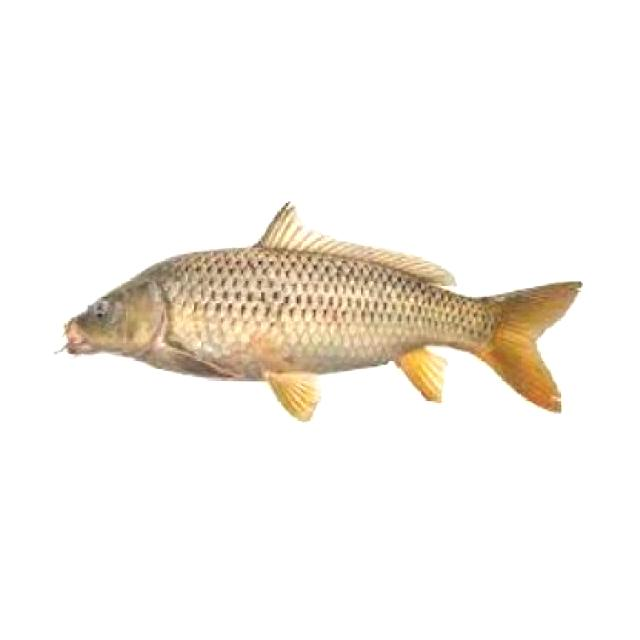ikan-mas: (62, 224, 562, 418)
